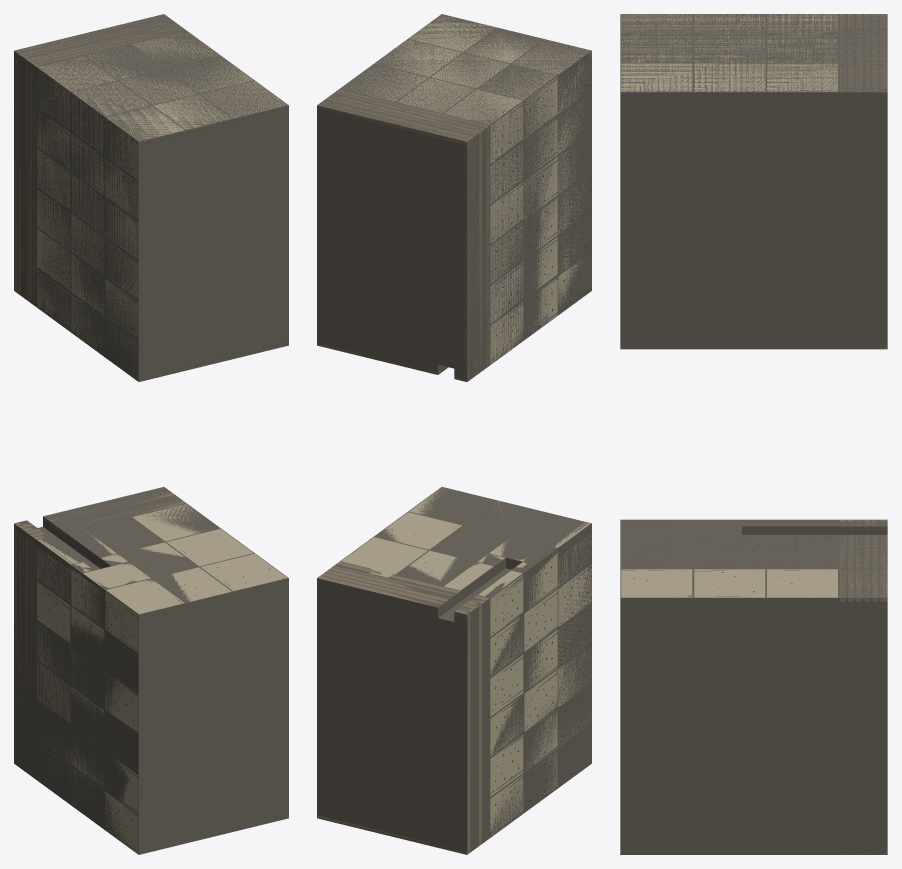
The model's file is VD_RootsteadEntranceBulkhead.obj.
The picture shows the model from 3 angles, left to right: view 1: azimuth 30°, elevation 25°; view 2: azimuth 150°, elevation 25°; view 3: azimuth 270°, elevation 25°; orthographic projection. The views are drawn at different scales.
Parts seen in each view (by area): view 1: VD_RootsteadEntranceBulkhead; view 2: VD_RootsteadEntranceBulkhead; view 3: VD_RootsteadEntranceBulkhead.
Boxes of the visible parts, x1,y1,x2,y2 form: VD_RootsteadEntranceBulkhead: (14, 14, 288, 854); VD_RootsteadEntranceBulkhead: (317, 14, 591, 854); VD_RootsteadEntranceBulkhead: (620, 14, 887, 854).
Size of the model in its own units: 577 by 2600 by 825.
